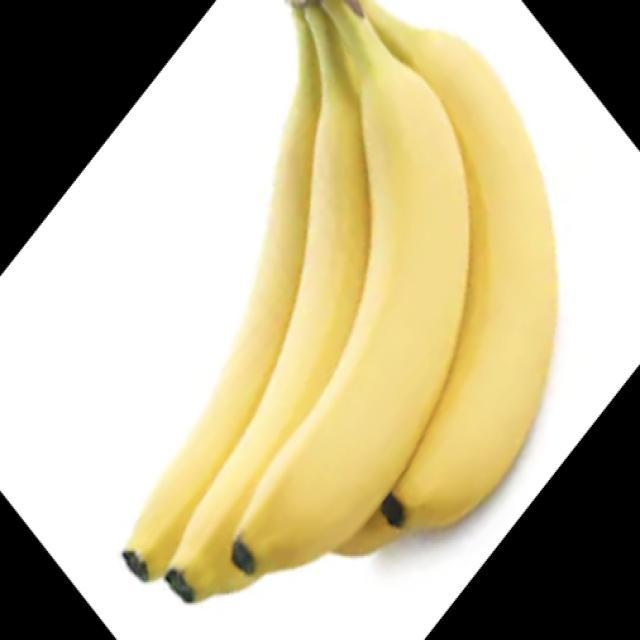Banana: (120, 0, 559, 604)
